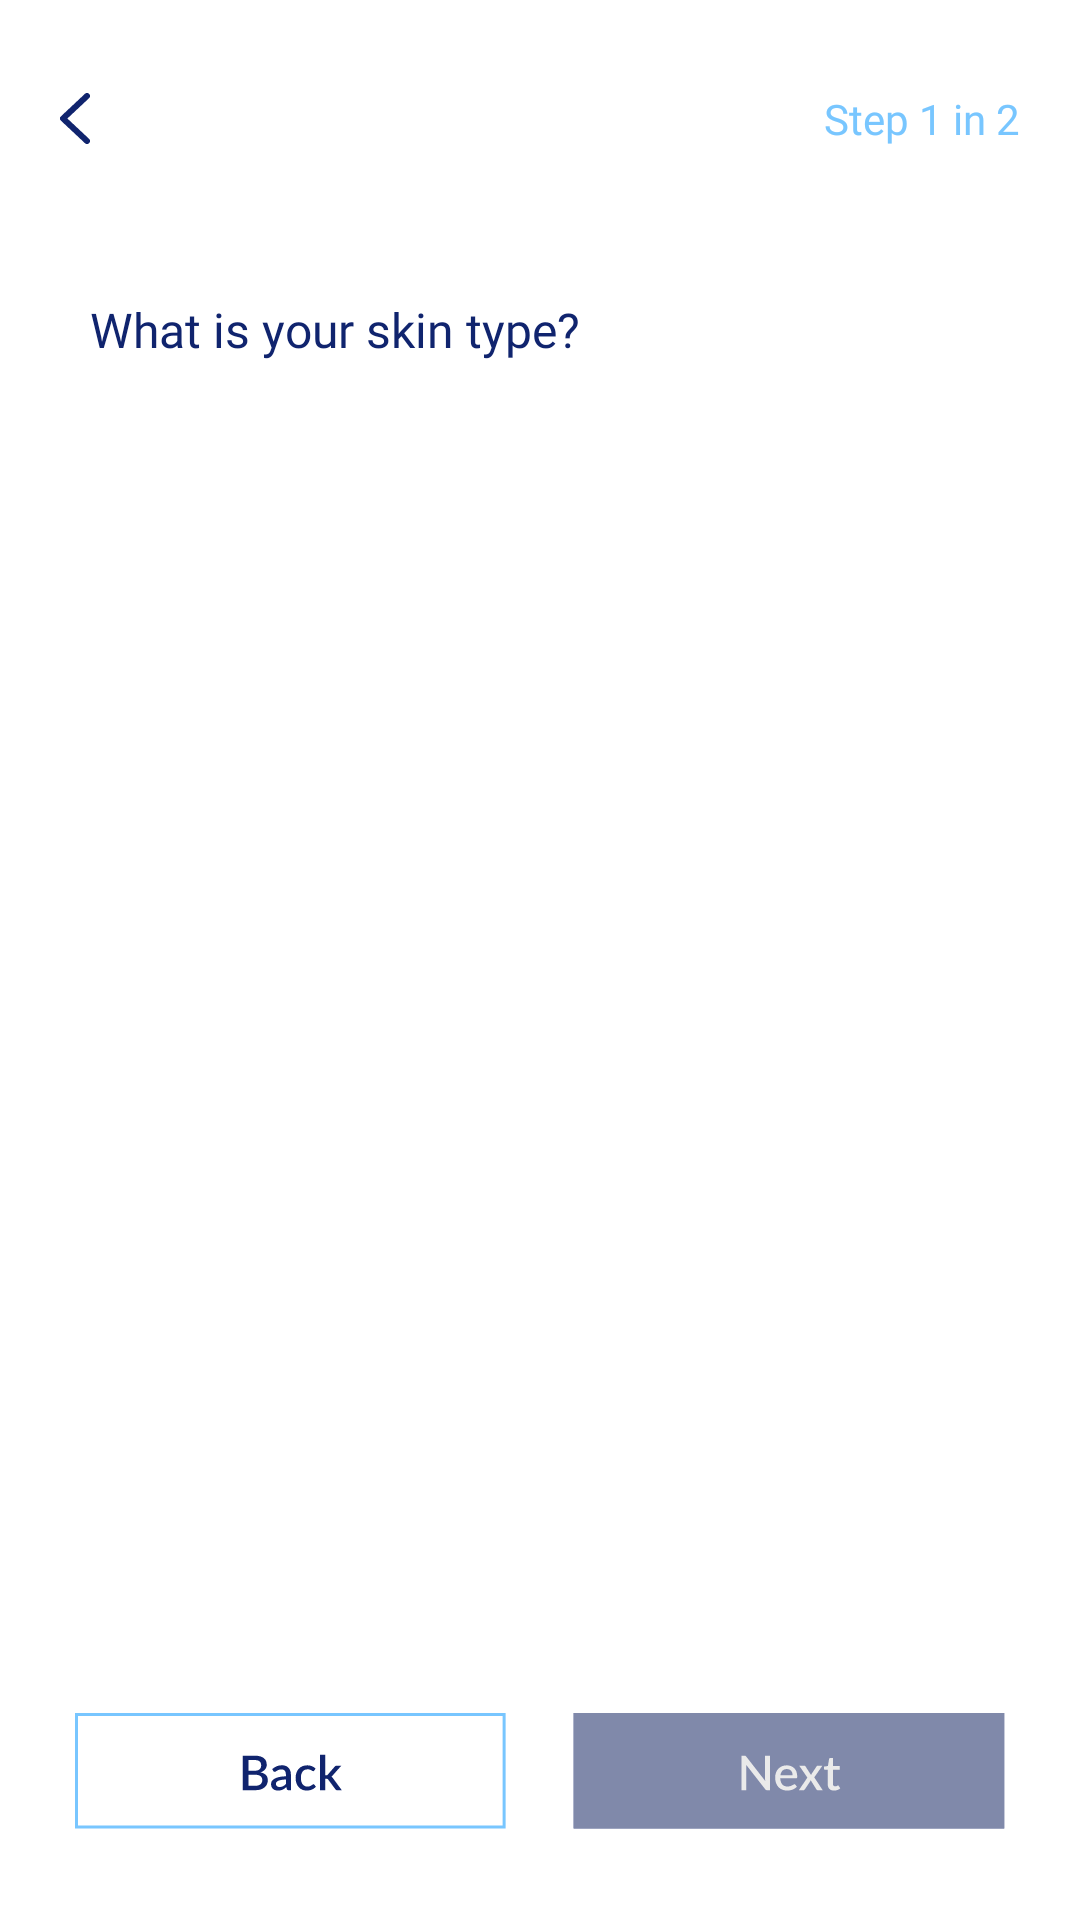

Where icons sit on this 1080px x 1920px app screen, as (x1, y1, x2, y2):
back: (60, 93, 90, 144)
